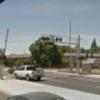cars: (13, 66, 45, 82)
